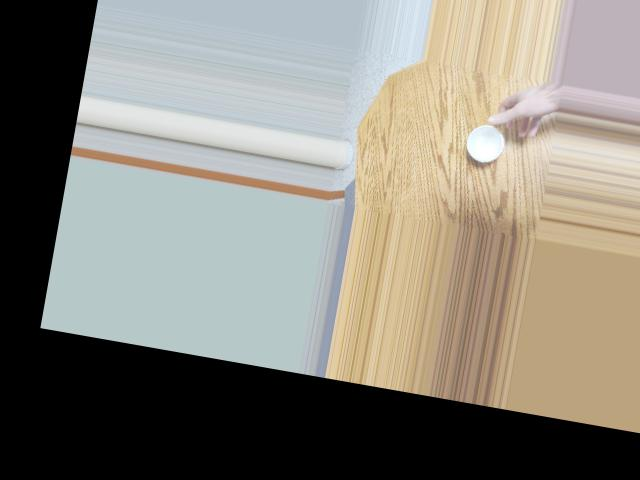cotage: (455, 110, 516, 170)
